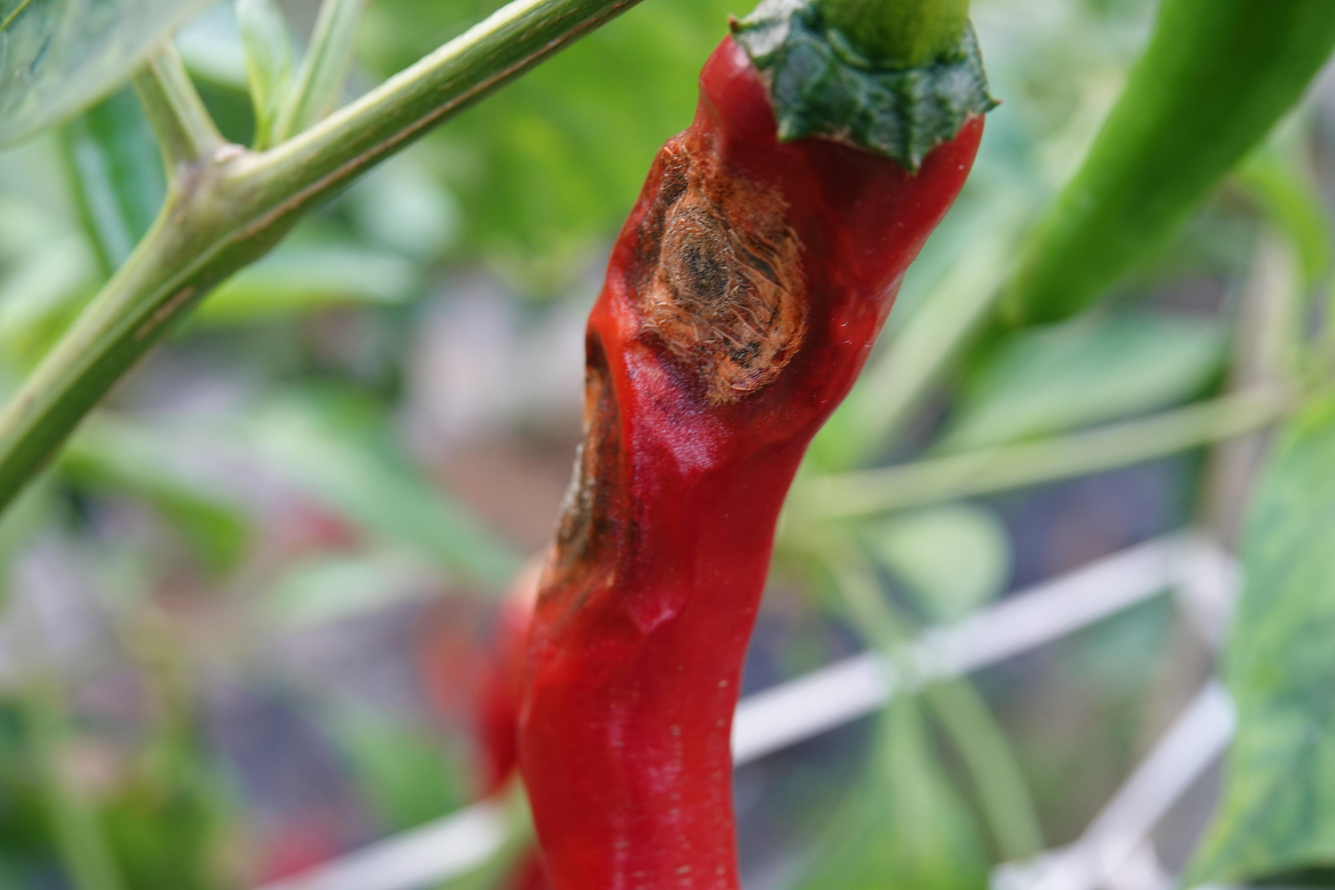Busuk Buah Antraknosa: (506, 2, 1002, 886)
